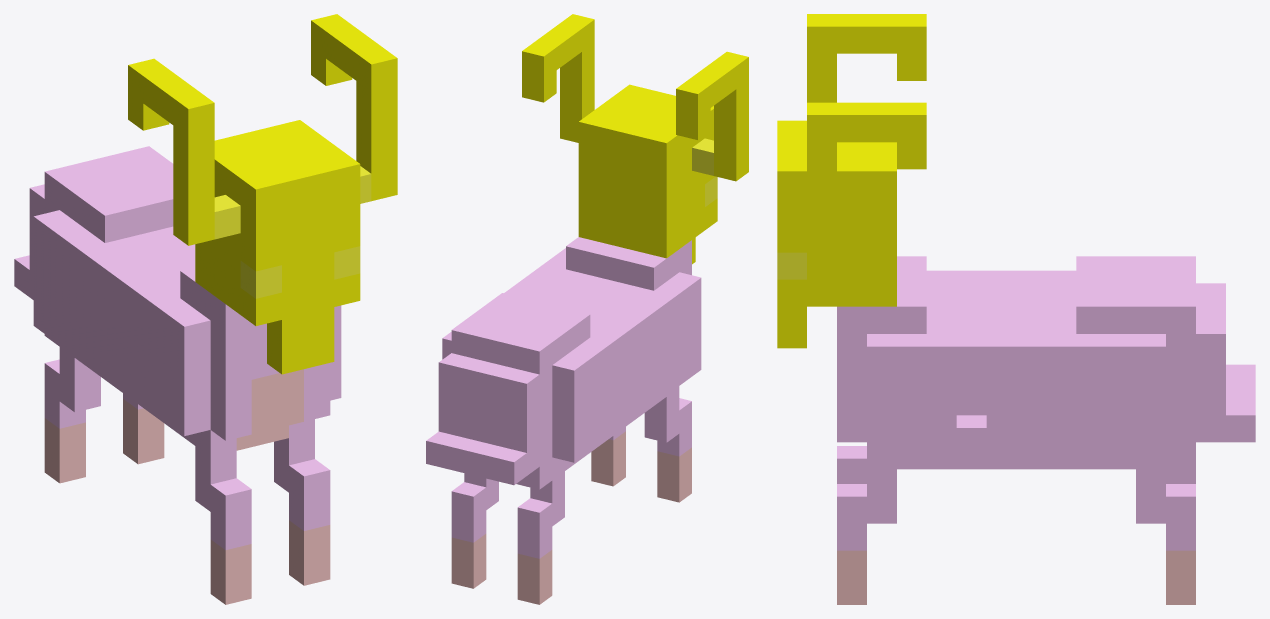
The model's file is cabra.vox.obj.
3 renders of one model, left to right at view 1: azimuth 30°, elevation 25°; view 2: azimuth 150°, elevation 25°; view 3: azimuth 270°, elevation 25°, orthographic. The views are drawn at different scales.
Bounding box in the file's own units: 0.8 × 1.9 × 1.6.
